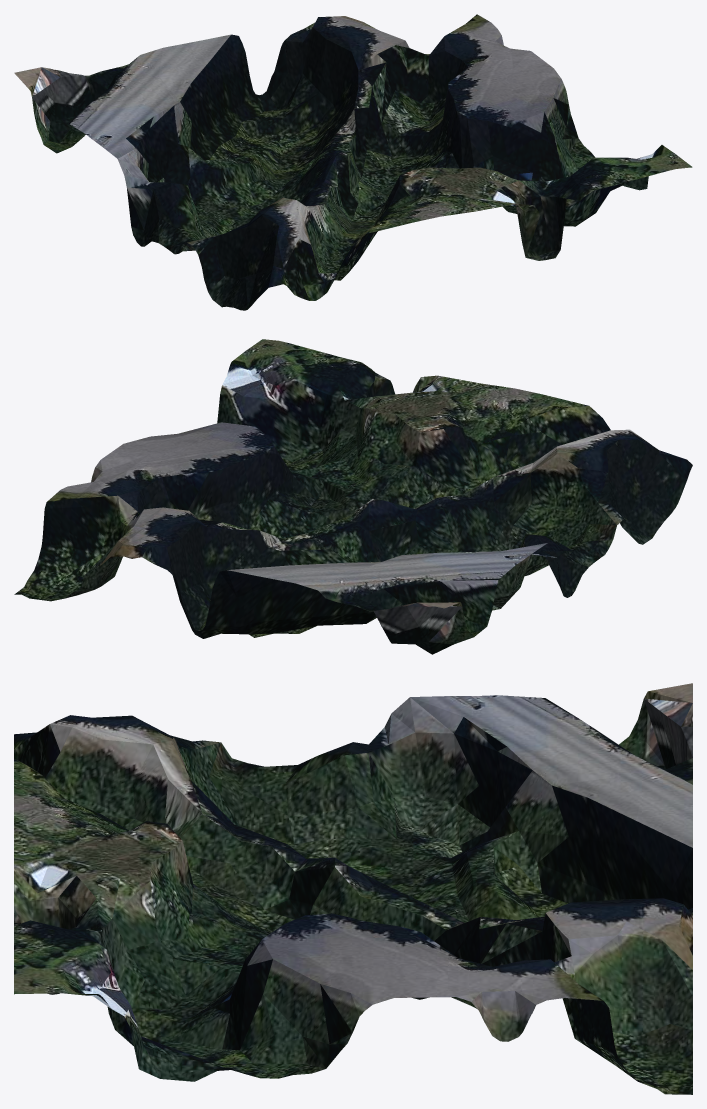
Rendered from map_15_8176_13785.dae.
3 renders of one model, top to bottom at view 1: azimuth 30°, elevation 25°; view 2: azimuth 150°, elevation 25°; view 3: azimuth 270°, elevation 25°, orthographic. The views are drawn at different scales.
Parts seen in each view (by area): view 1: Ter0; view 2: Ter0; view 3: Ter0.
Part boxes in pixels (x1,y1,x2,y2): Ter0: (14,14,692,310); Ter0: (14,339,692,654); Ter0: (14,683,692,1094).
Size of the model in its own units: 63.88 by 63.88 by 15.25.
Materials: 4 (4 with a texture image).
